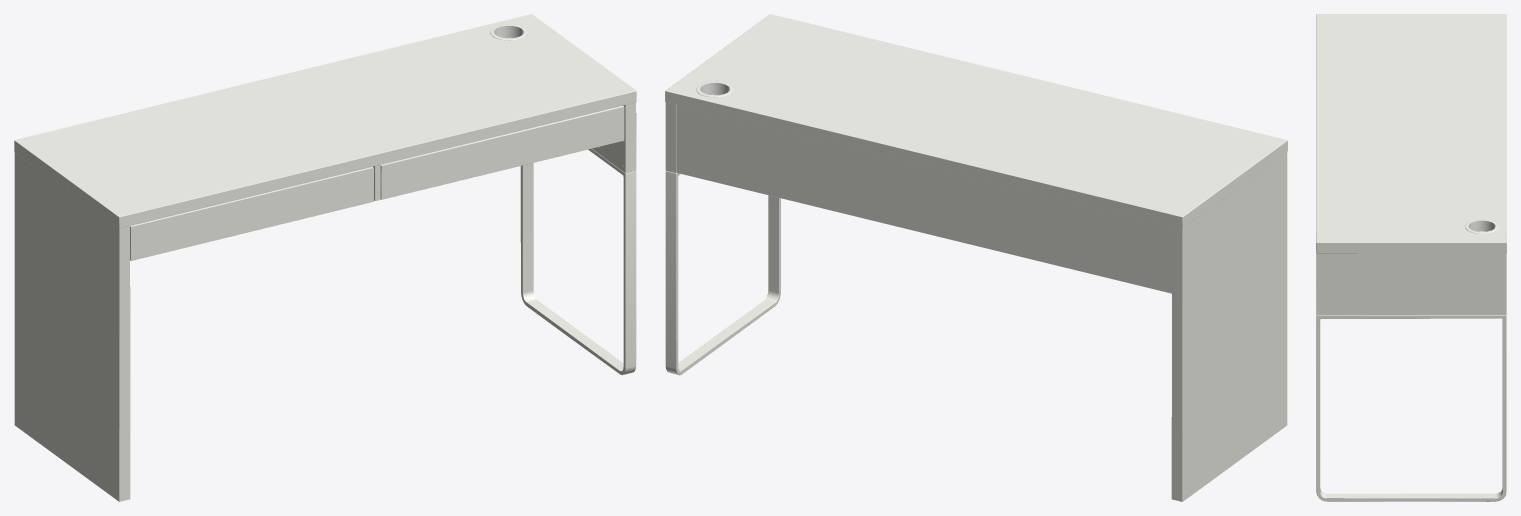
Rendered from MICKE_90214308.glb.
3 views of the same model, side by side, from view 1: azimuth 30°, elevation 25°; view 2: azimuth 150°, elevation 25°; view 3: azimuth 270°, elevation 25° (orthographic). The views are drawn at different scales.
Parts seen in each view (by area): view 1: model; view 2: model; view 3: model.
Part boxes in pixels (x1,y1,x2,y2): model: [14, 14, 636, 501]; model: [665, 14, 1287, 501]; model: [1316, 14, 1506, 501].
Bounding box in the file's own units: 1.42 × 0.7525 × 0.5.
Materials: 1 (1 with a texture image).
